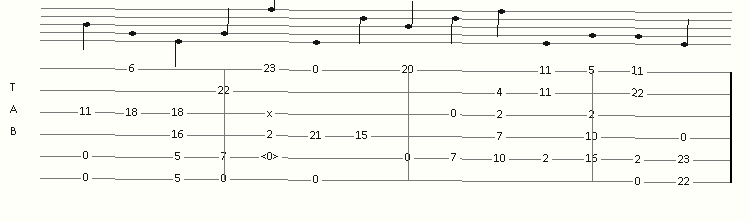0: (83, 174, 93, 186), (83, 152, 93, 164), (221, 174, 231, 186), (313, 174, 323, 186), (313, 64, 323, 76), (405, 152, 415, 164), (451, 108, 461, 120), (635, 174, 645, 186), (681, 130, 691, 142)
10: (494, 152, 510, 164), (586, 130, 602, 142)
11: (80, 108, 96, 120), (540, 86, 556, 98), (540, 64, 556, 76), (632, 64, 648, 76)
15: (356, 130, 372, 142)
16: (172, 130, 188, 142), (586, 152, 602, 164)
18: (126, 108, 142, 120), (172, 108, 188, 120)
2: (267, 130, 277, 142), (497, 108, 507, 120), (543, 152, 553, 164), (589, 108, 599, 120), (635, 152, 645, 164)
20: (402, 64, 418, 76)
21: (310, 130, 326, 142)
22: (218, 86, 234, 98), (632, 86, 648, 98), (678, 174, 694, 186)
23: (264, 64, 280, 76), (678, 152, 694, 164)
4: (497, 86, 507, 98)
5: (175, 174, 185, 186), (175, 152, 185, 164), (589, 64, 599, 76)
6: (129, 64, 139, 76)
7: (221, 152, 231, 164), (451, 152, 461, 164), (497, 130, 507, 142)
harmonic: (261, 152, 283, 164)
x: (267, 109, 276, 119)
